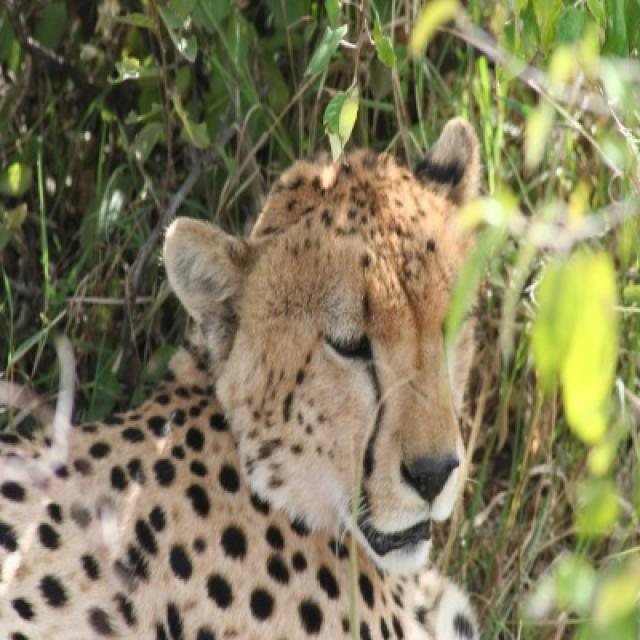Cheetah: (0, 120, 492, 638)
